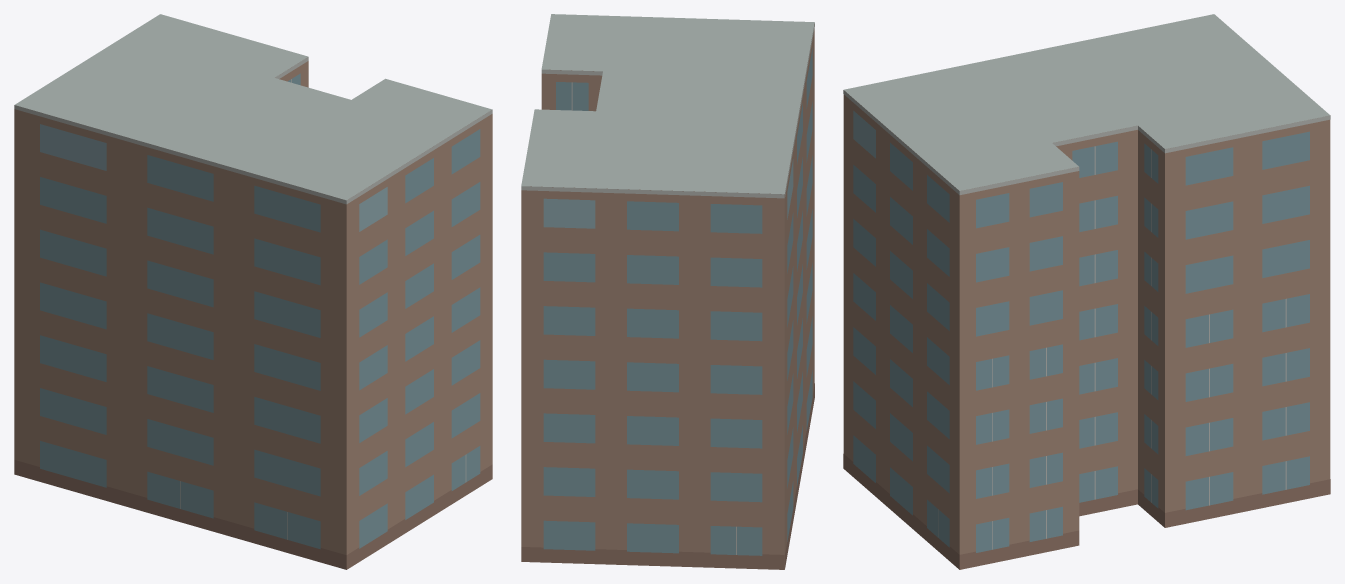
File: survey-upis-32913476.glb
The picture shows the model from 3 angles, left to right: view 1: azimuth 30°, elevation 25°; view 2: azimuth 150°, elevation 25°; view 3: azimuth 270°, elevation 25°; orthographic projection. The views are drawn at different scales.
Parts seen in each view (by area): view 1: survey-upis-32913476.tmp; view 2: survey-upis-32913476.tmp; view 3: survey-upis-32913476.tmp.
Part boxes in pixels (<box>): survey-upis-32913476.tmp: <box>14,14,492,569</box>; survey-upis-32913476.tmp: <box>521,14,814,569</box>; survey-upis-32913476.tmp: <box>843,14,1330,569</box>.
Bounding box in the file's own units: 22.06 × 22 × 25.64.
